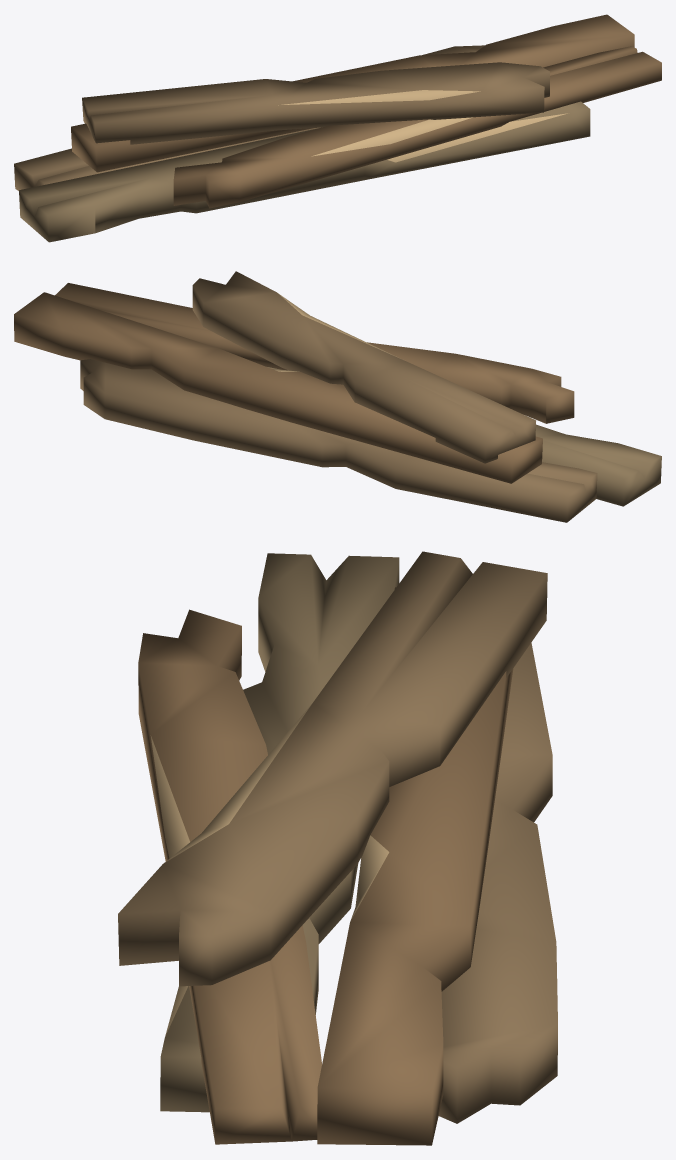
Rendered from rpgpp_av_planks_01a.gltf.
The picture shows the model from 3 angles, top to bottom: view 1: azimuth 30°, elevation 25°; view 2: azimuth 150°, elevation 25°; view 3: azimuth 270°, elevation 25°; orthographic projection. The views are drawn at different scales.
Visible parts, largest first — view 1: rpgpp_av_planks_01a; view 2: rpgpp_av_planks_01a; view 3: rpgpp_av_planks_01a.
Boxes of the visible parts, x1=… form: rpgpp_av_planks_01a: x1=14, y1=14, x2=661, y2=242; rpgpp_av_planks_01a: x1=14, y1=271, x2=661, y2=522; rpgpp_av_planks_01a: x1=118, y1=551, x2=557, y2=1145.
Size of the model in its own units: 0.0277 by 0.00313 by 0.00876.
1 material, 1 textured.
